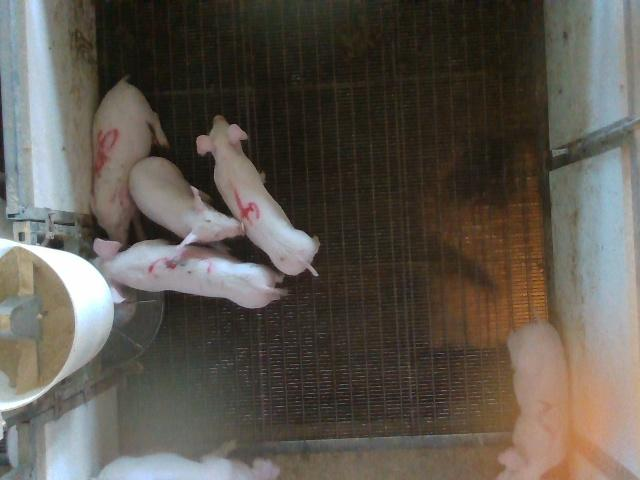pig-2: (499, 320, 570, 479)
pig-3: (94, 239, 286, 308)
pig-4: (198, 116, 319, 276)
pig-5: (92, 78, 168, 244)
